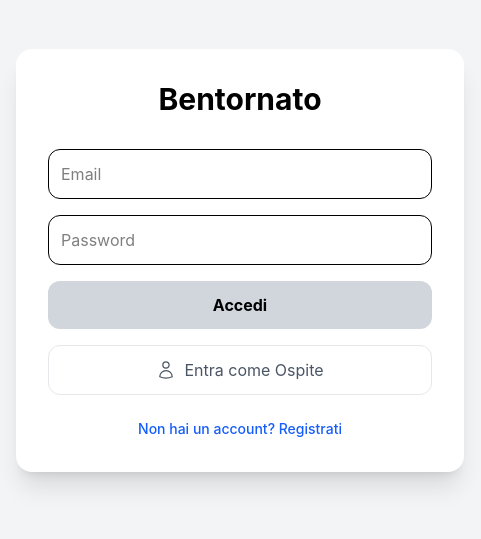
it: AuthScreen › reset errore quando si cambia modalità
Type "test@example.com" into the field with placeholder "Email" at (240, 174), box [48,148,432,198]
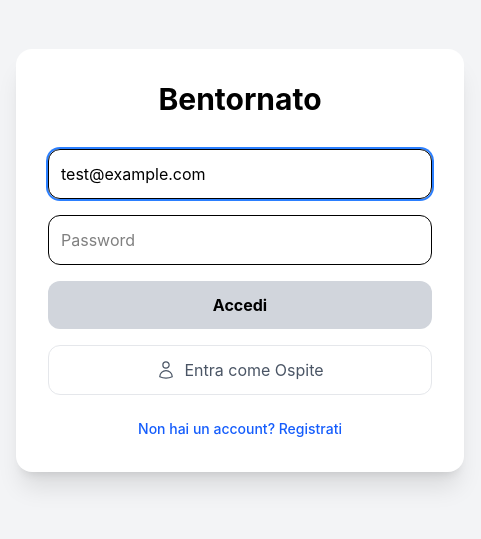
Type "wrong" into the password field with placeholder "Password" at (240, 240), box [48,214,432,264]
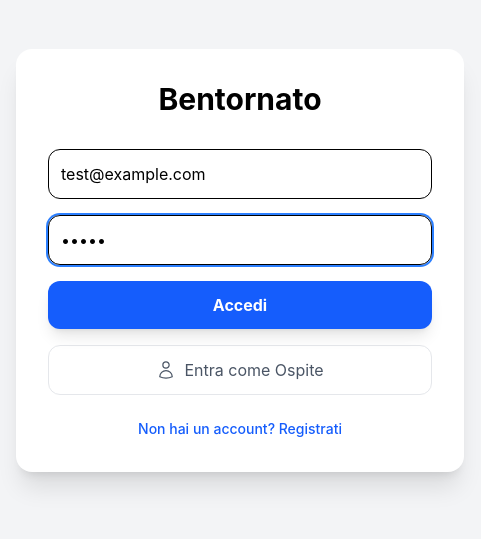
Click the button "Accedi" at (240, 304), box [48,280,432,328]
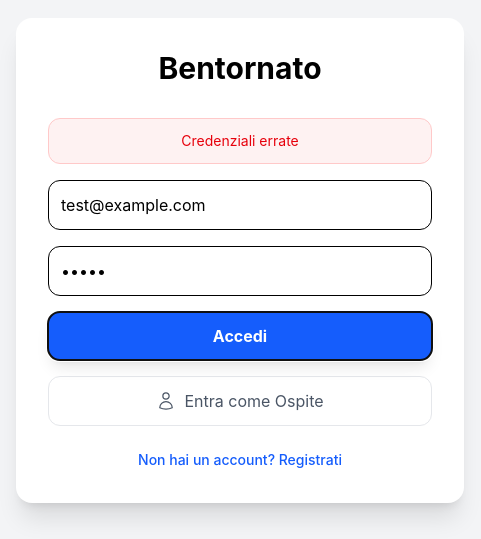
Expected: the text "Credenziali errate" is shown, [48,118,432,164]
// Toggle a registrazione → errore deve sparire
Click the button "Non hai un account? Registrati" at (240, 460), box [48,450,432,470]
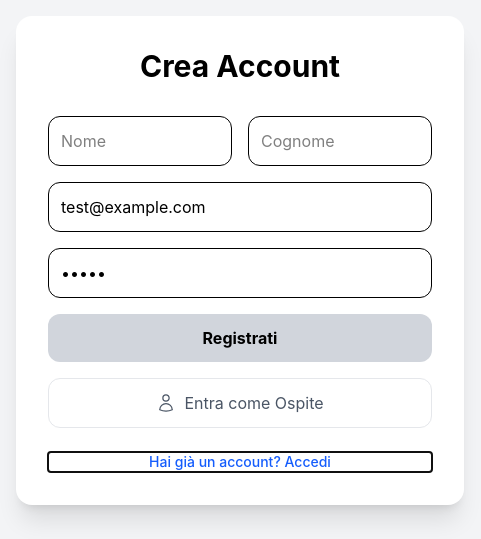
Expected: the text "Credenziali errate" is gone
